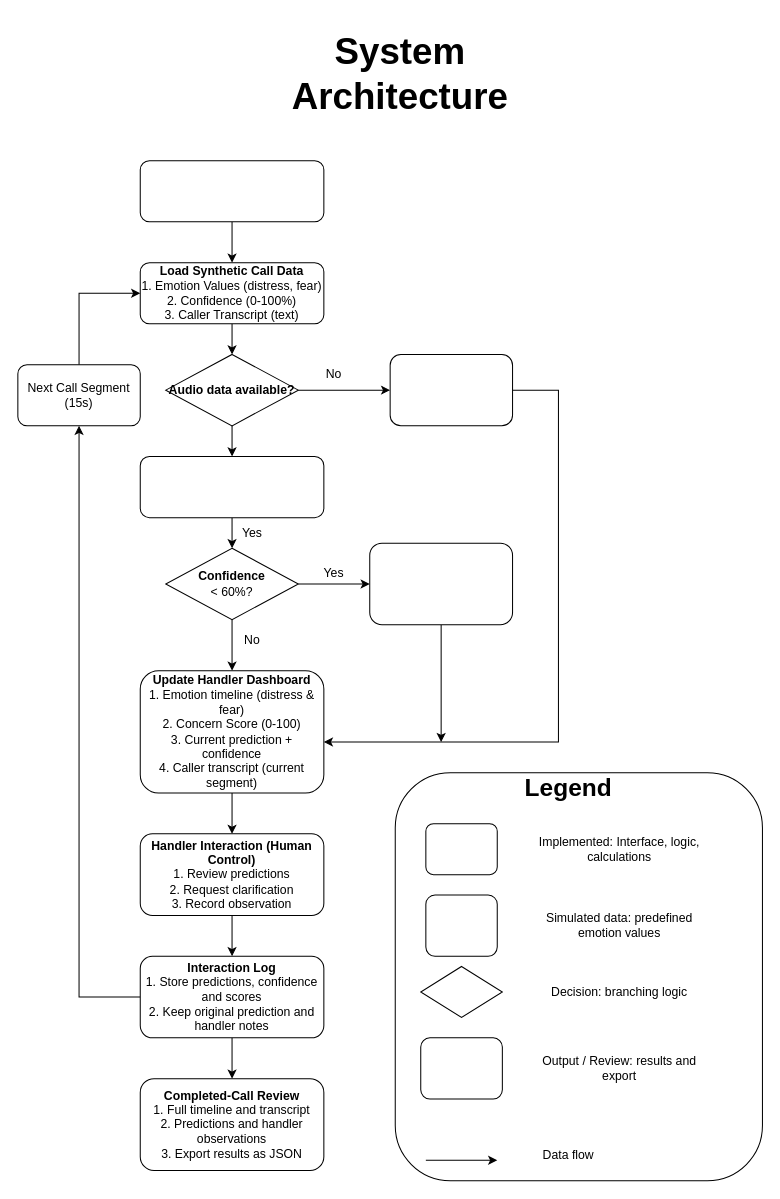
Image size: 780x1199. Some labels were removed from this diagram. The shapes that lost their labels are listed below. From the top down, each one's centre as x and y in pixels, then its label:
At point 231,191: "Select Call Scenario (A, B, C or D)".
At point 451,389: "Withhold predicition 1. Show warning 2. Leave gap in timeline".
At point 231,486: "Calculate Concern Score 1. 70% Distress + 30% Fear 2. Result: 0-100".
At point 441,583: "Show Uncertainty Warning 1. Display low confidence 2. Widen uncertainty band".
